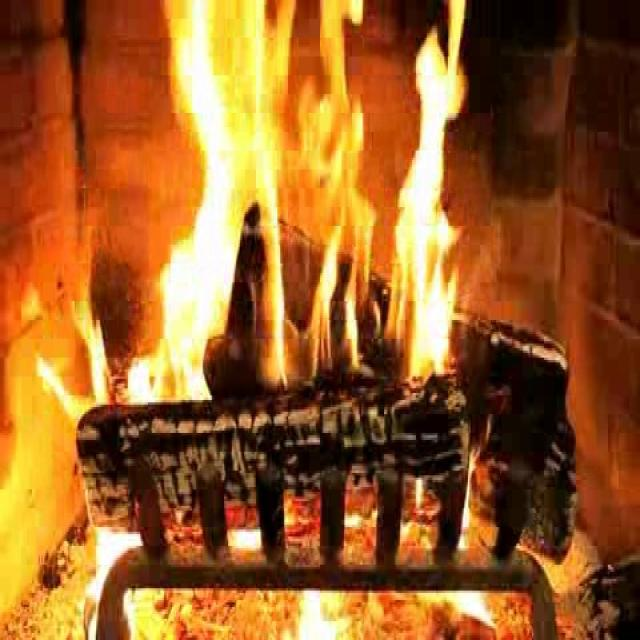fire: (136, 8, 476, 420)
